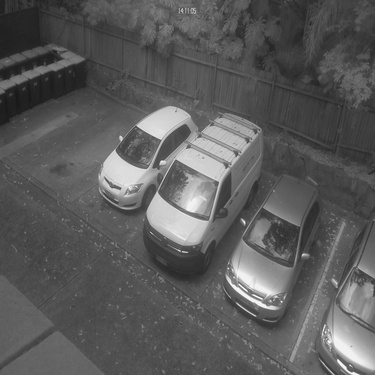car: (221, 167, 325, 329), (93, 98, 205, 217), (314, 200, 372, 374)
